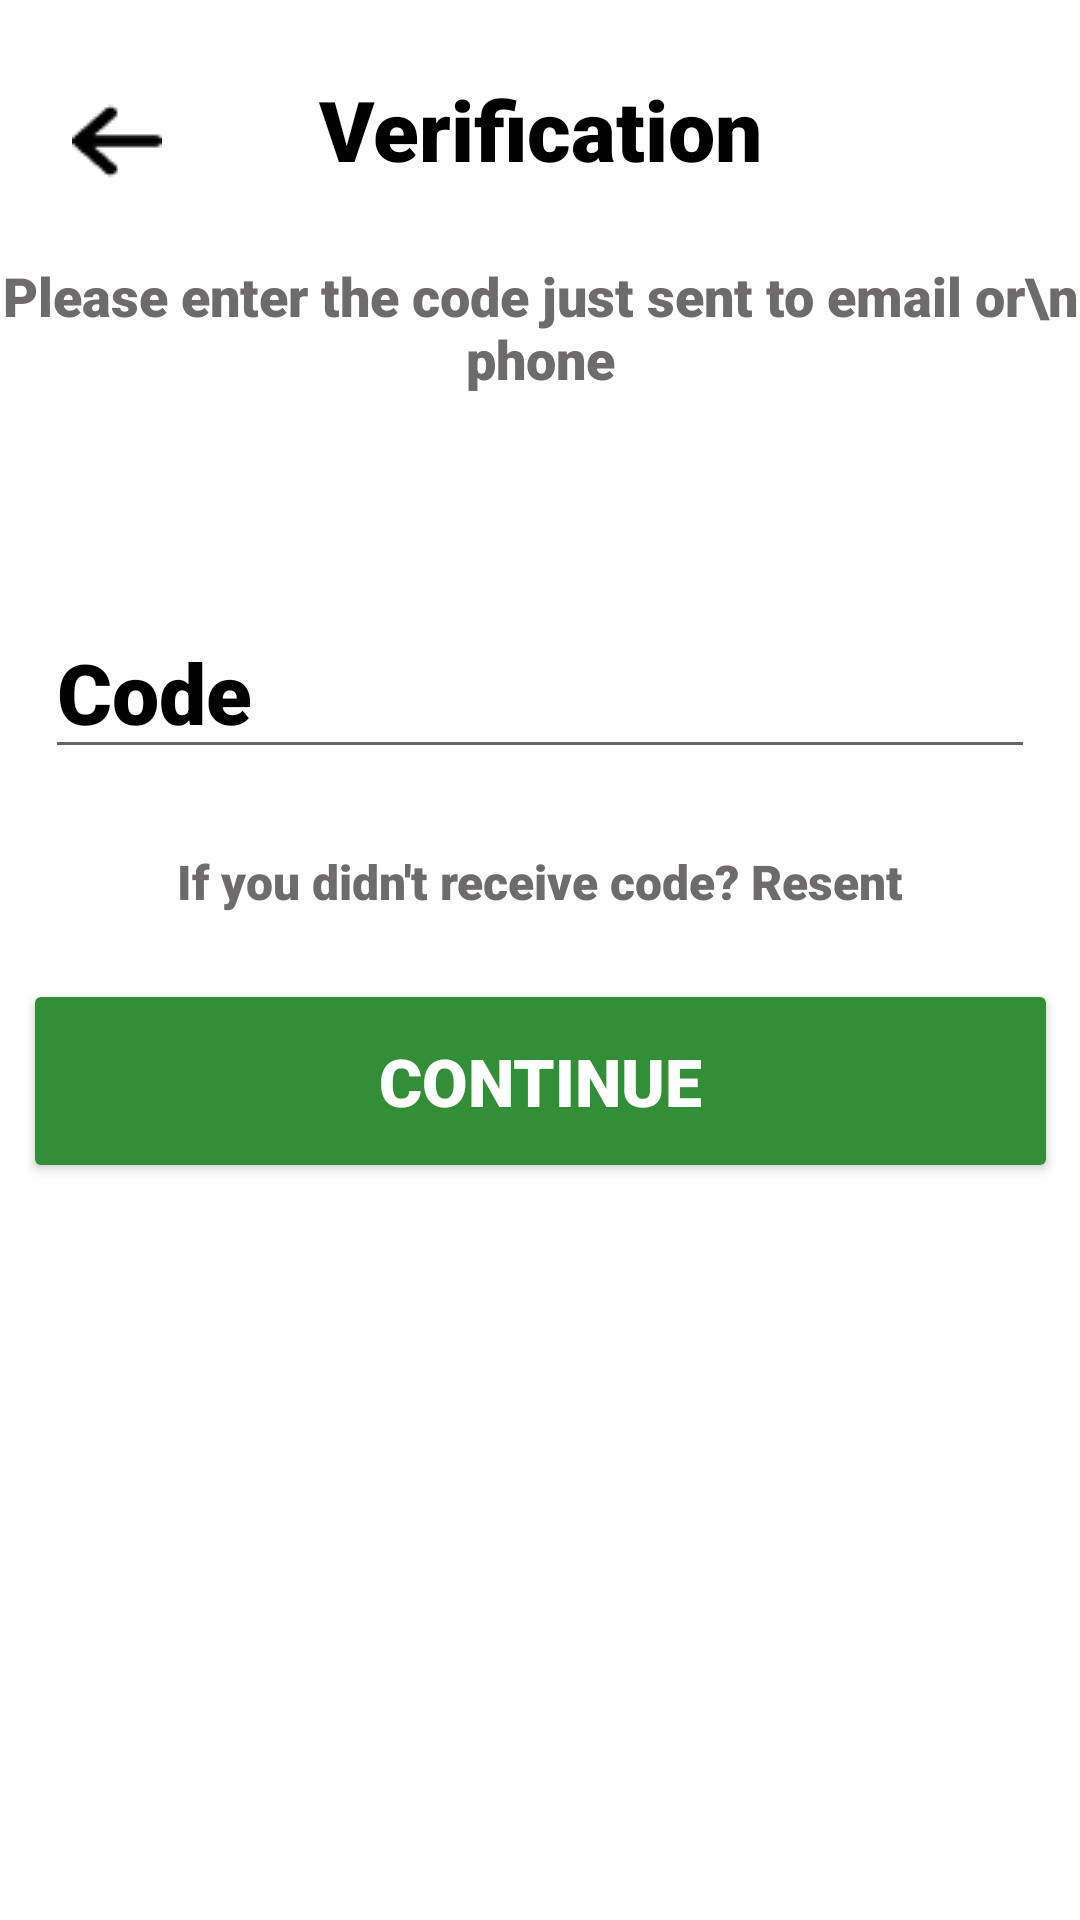

Named icons in this screenshot (1080x1920) and their bounding boxes, (x1,y1,x2,y2):
arrow left: (72,105,162,177)
